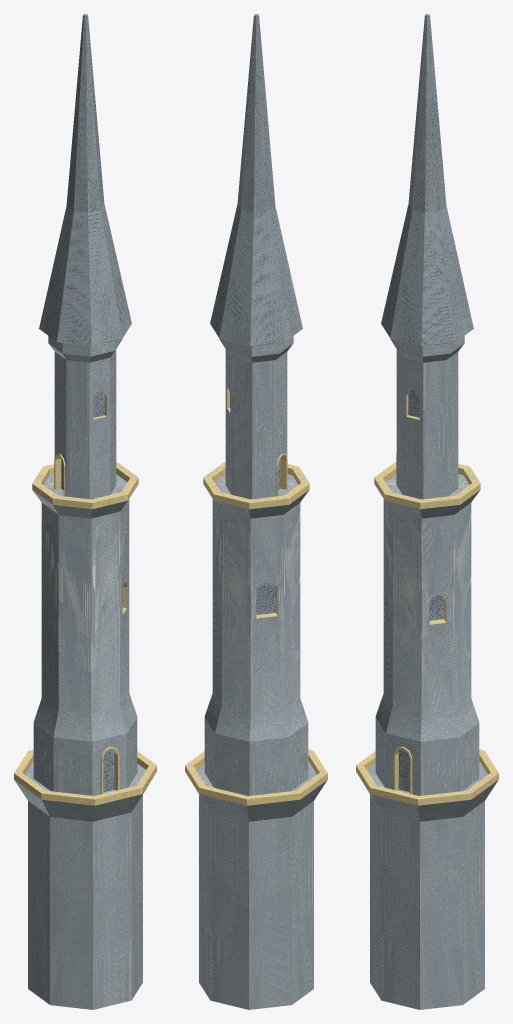
File: Castel_Tower_Large_01.fbx
3 views of the same model, side by side, from view 1: azimuth 30°, elevation 25°; view 2: azimuth 150°, elevation 25°; view 3: azimuth 330°, elevation 25° (orthographic).
Parts seen in each view (by area): view 1: Model; view 2: Model; view 3: Model.
Boxes of the visible parts, box(x1,y1,x2,y2) form: Model: box(14, 14, 156, 1009); Model: box(185, 14, 327, 1009); Model: box(356, 14, 498, 1009).
Bounding box in the file's own units: 1156 × 9300 × 1156.
